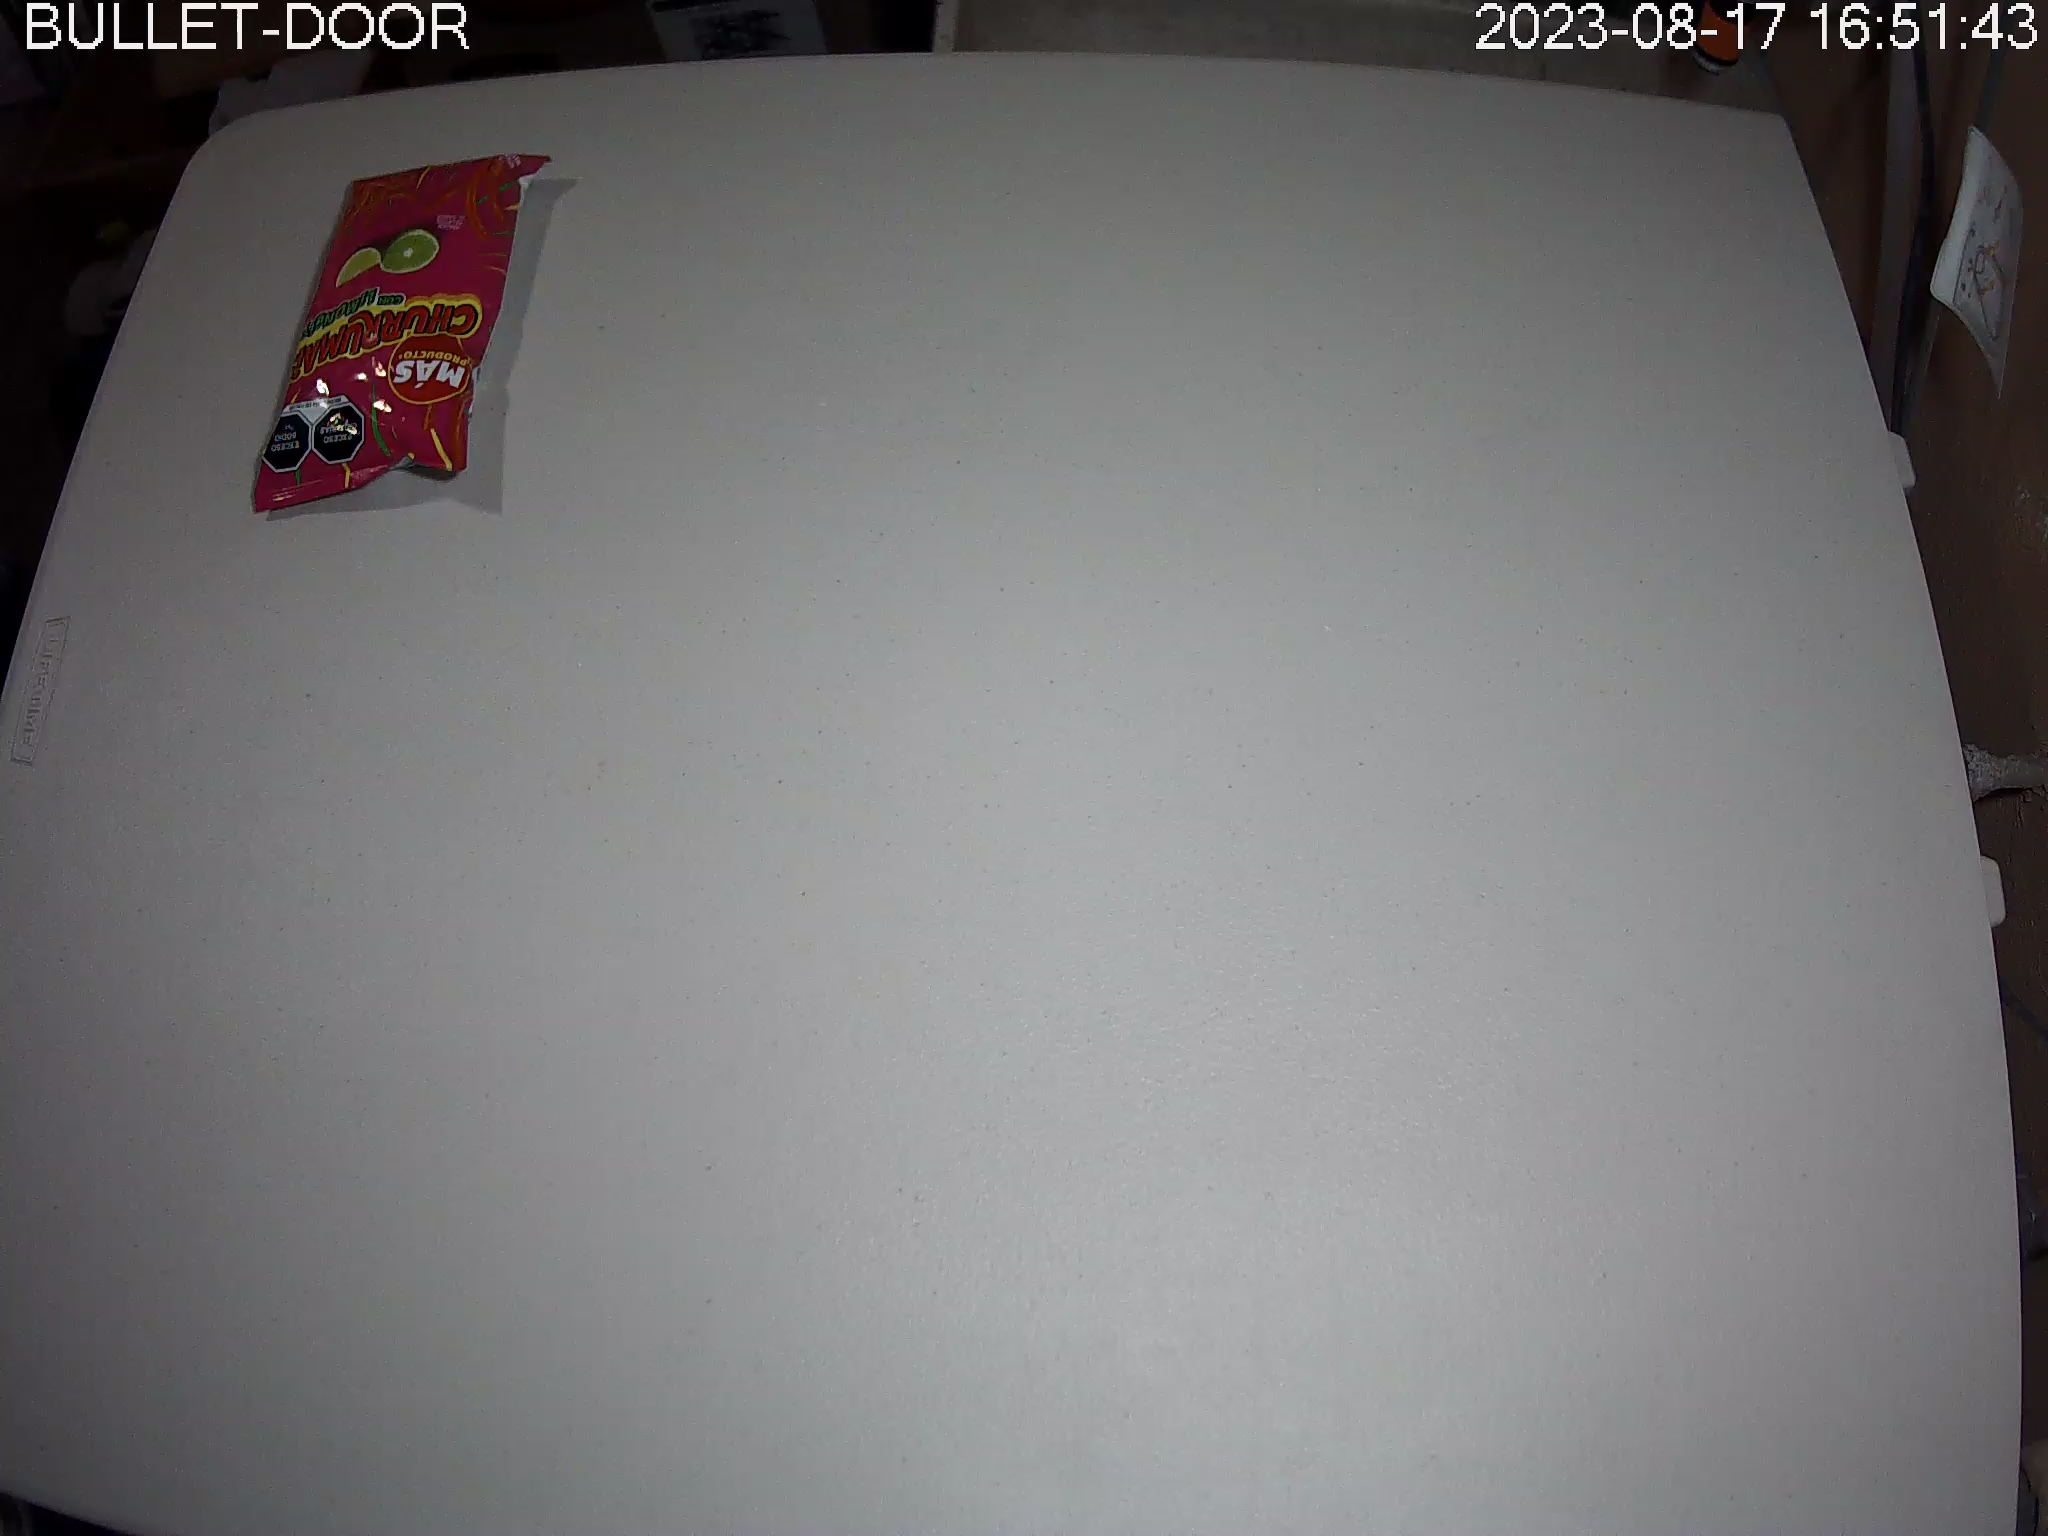Churrumais_70_F: (252, 155, 560, 516)
